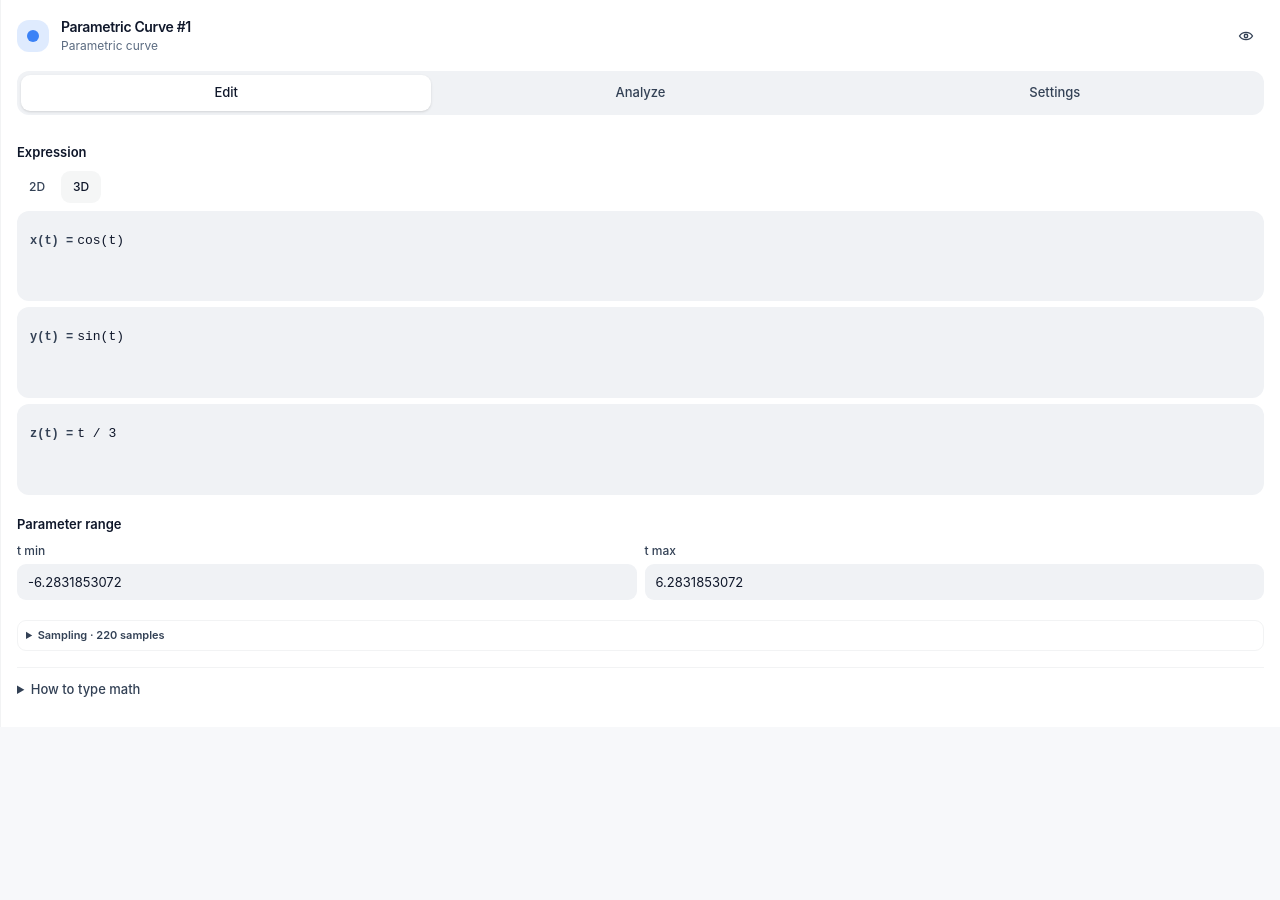
S32 gaps: surface domain ordering and tuple draft preservation › parametric tuple draft survives Object→Analyze→Object
Type "cos(t) + " into the field named "Parametric x(t)". click: (664, 240)
box: 77,224 -> 1251,256
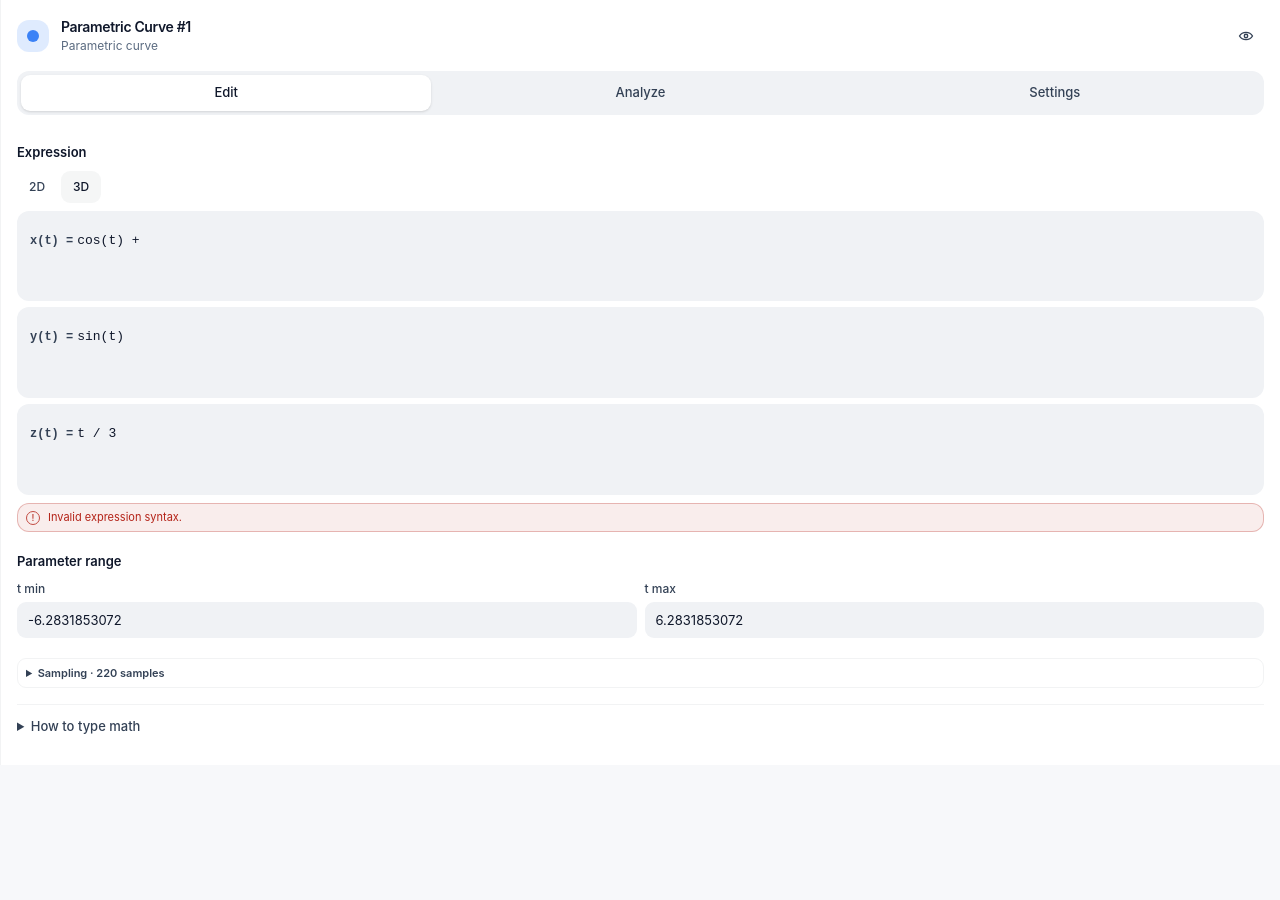
Click the tab "Analyze". click: (640, 93)
box: 435,75 -> 846,111
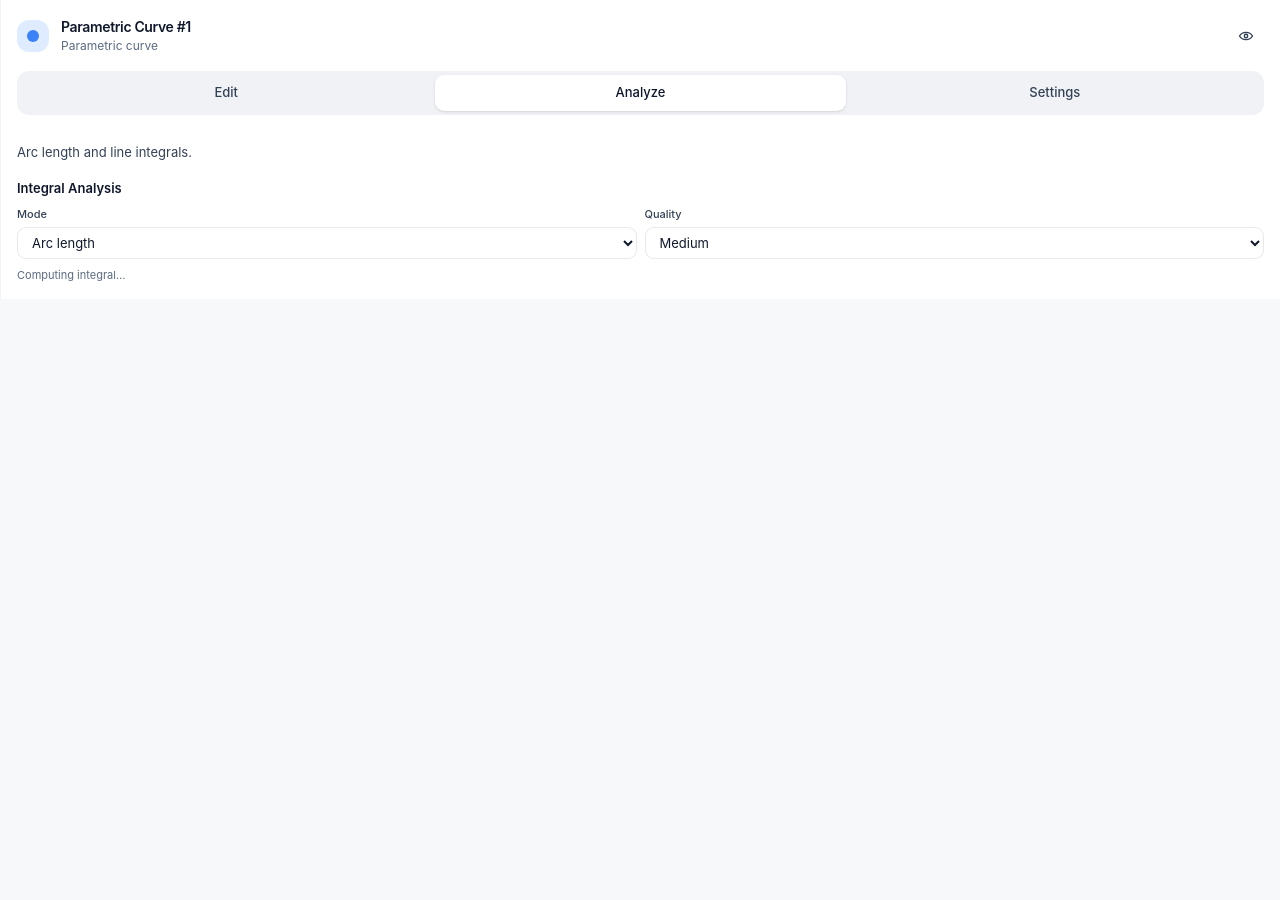
Click the tab "Edit". click: (226, 93)
box: 21,75 -> 431,111
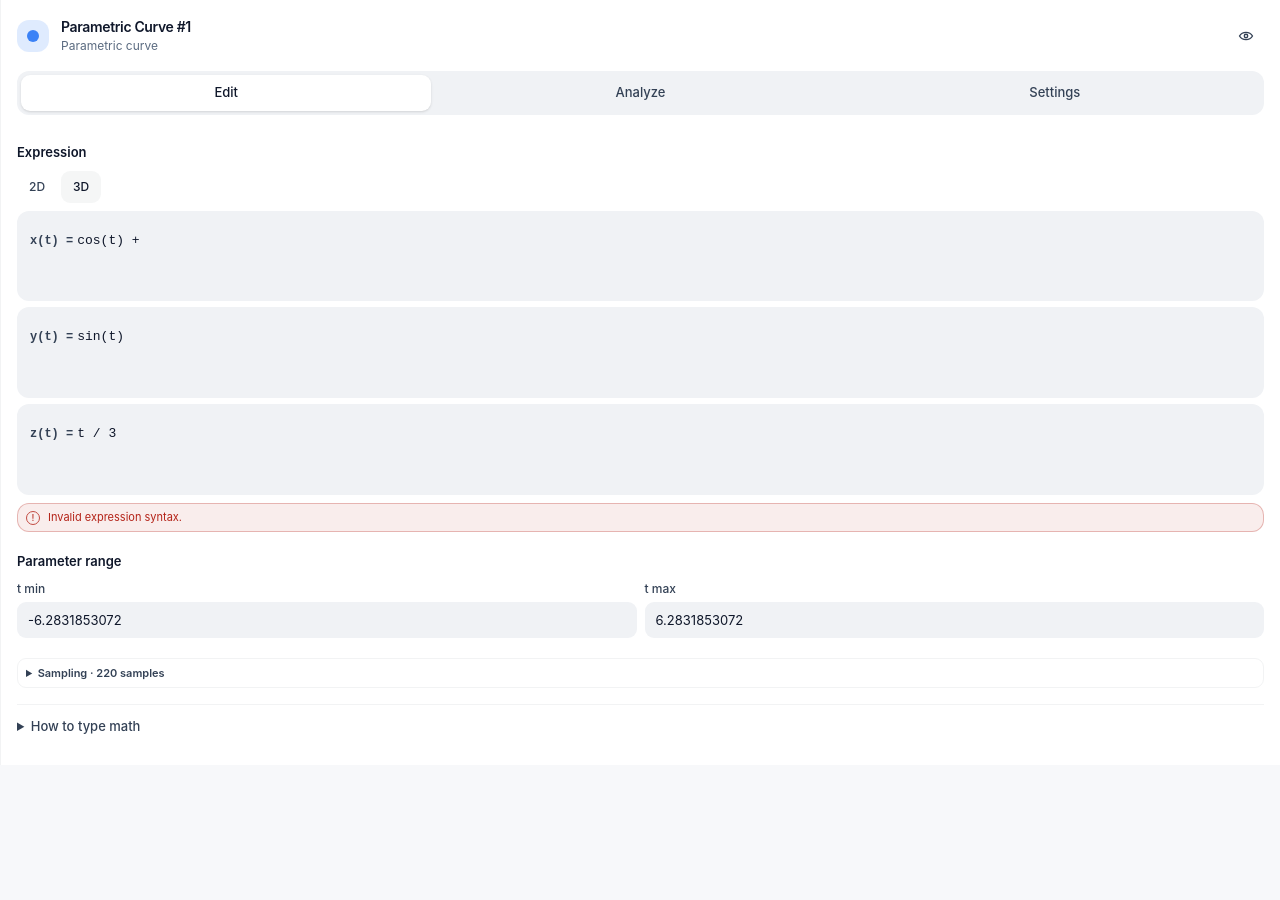
Now the field named "Parametric x(t)" holds "cos(t) + ", box 77,224 -> 1251,256
